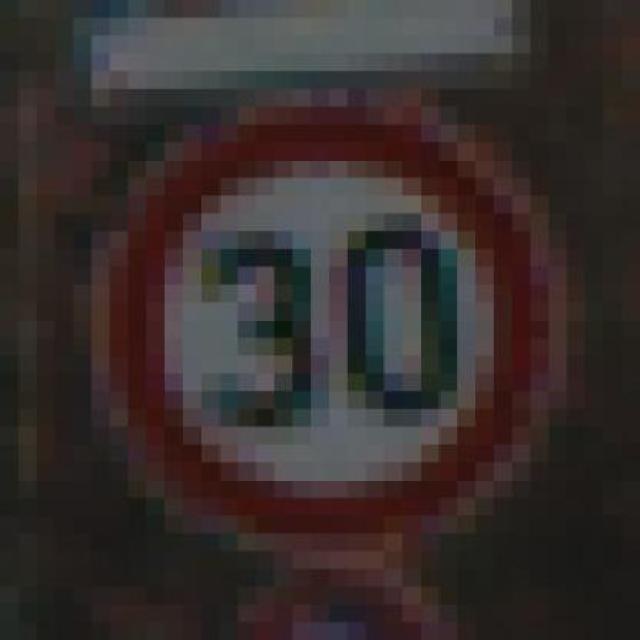Speed Limit 30 KMPh: (36, 71, 604, 587)
